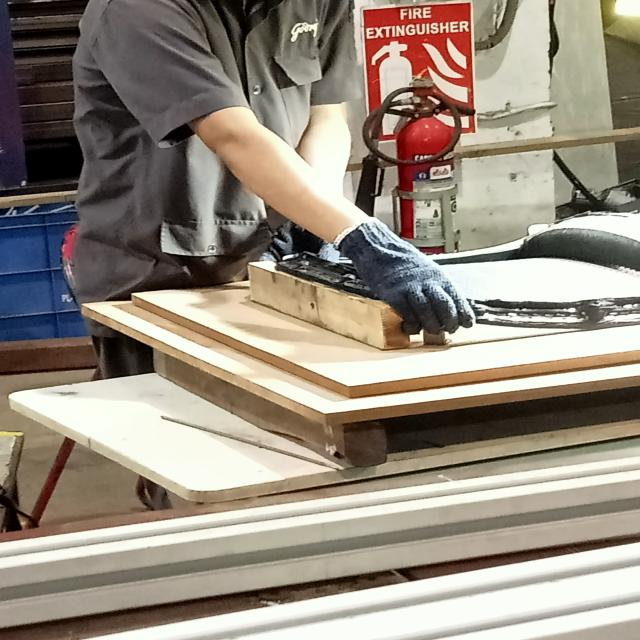Gloves-Detection: (334, 219, 476, 333)
